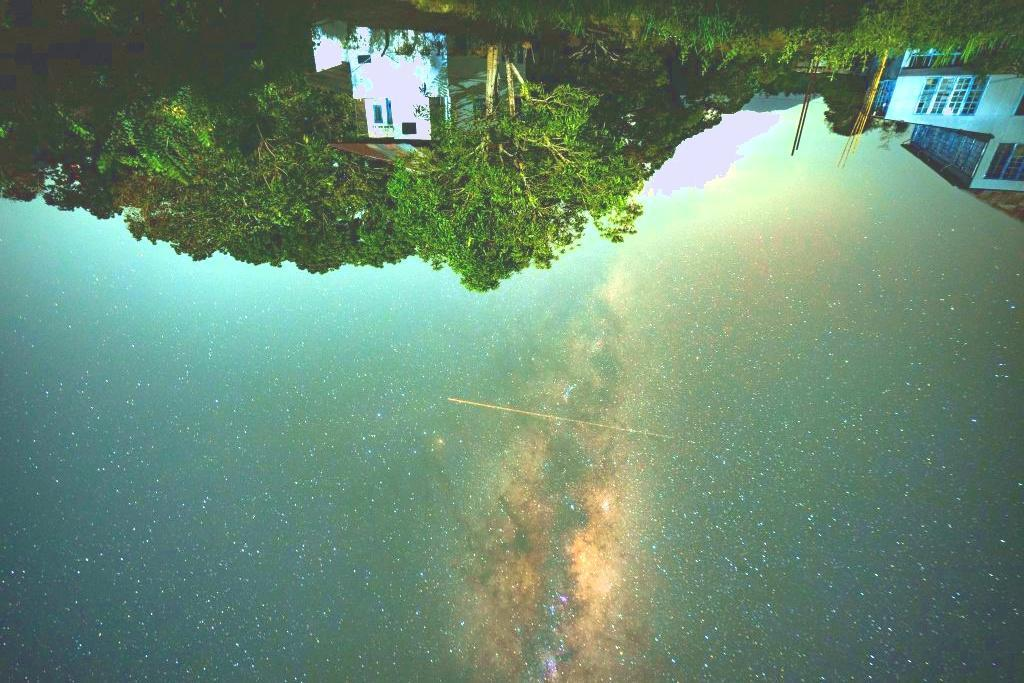meteorite: (432, 390, 569, 424)
